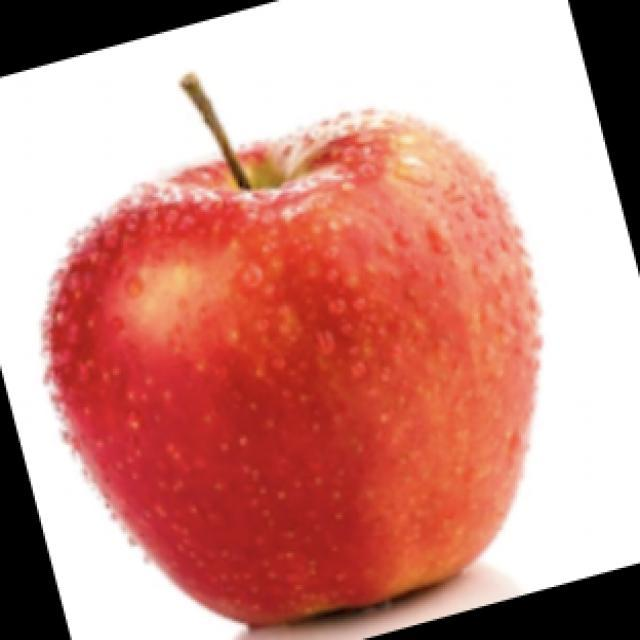Fresh Apple: (47, 120, 543, 617)
